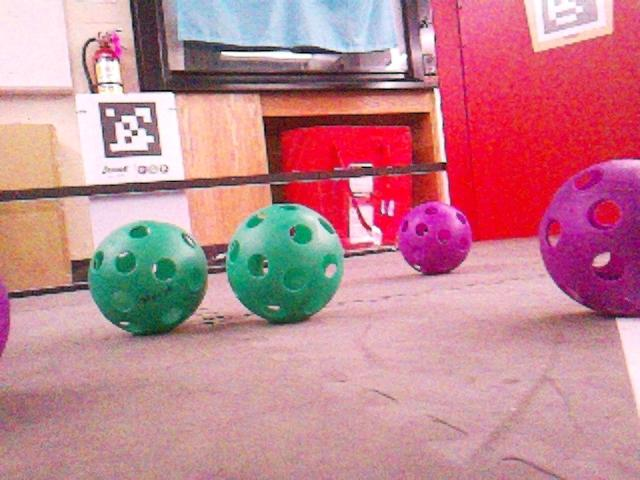Green: (224, 202, 344, 323), (86, 218, 209, 333)
Purple: (536, 158, 637, 315), (396, 201, 472, 275), (0, 272, 11, 365)
